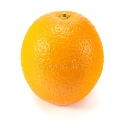orange: (21, 10, 106, 109)
